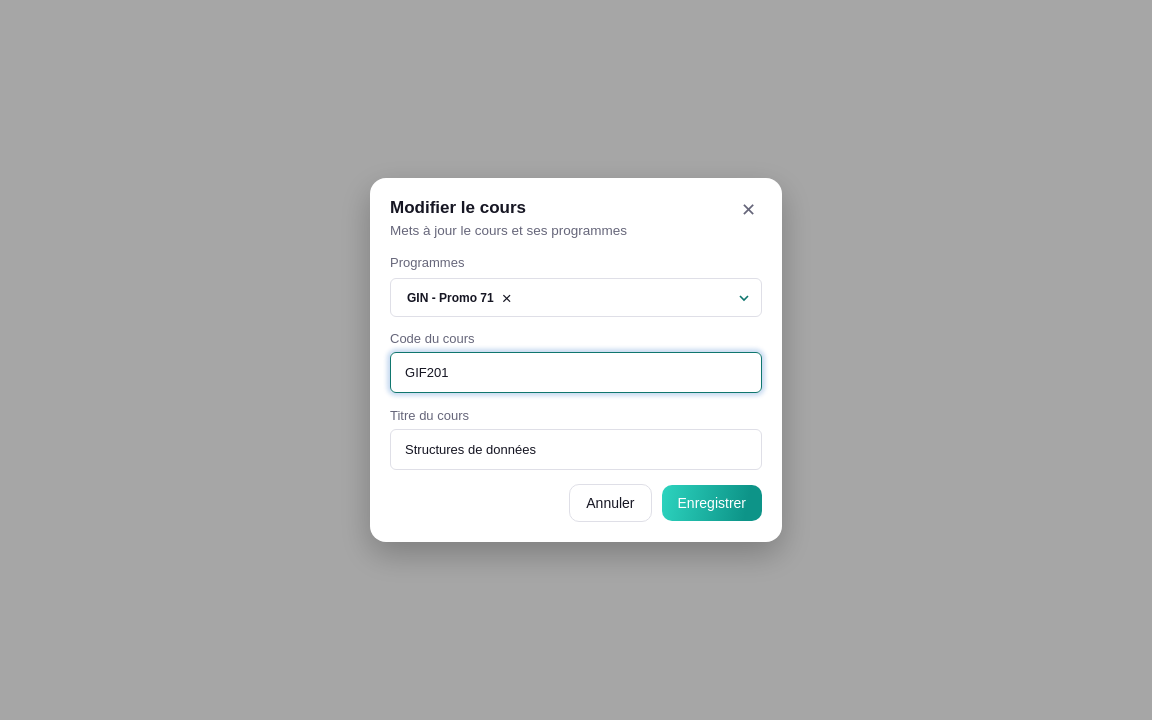
Test: UpdateCoursePopup › la recherche filtre par nom, code ou cohorte ; « aucun résultat » sinon
Click the element showing "GIN - Promo 71 ×" at (576, 298), box [390, 278, 762, 317]
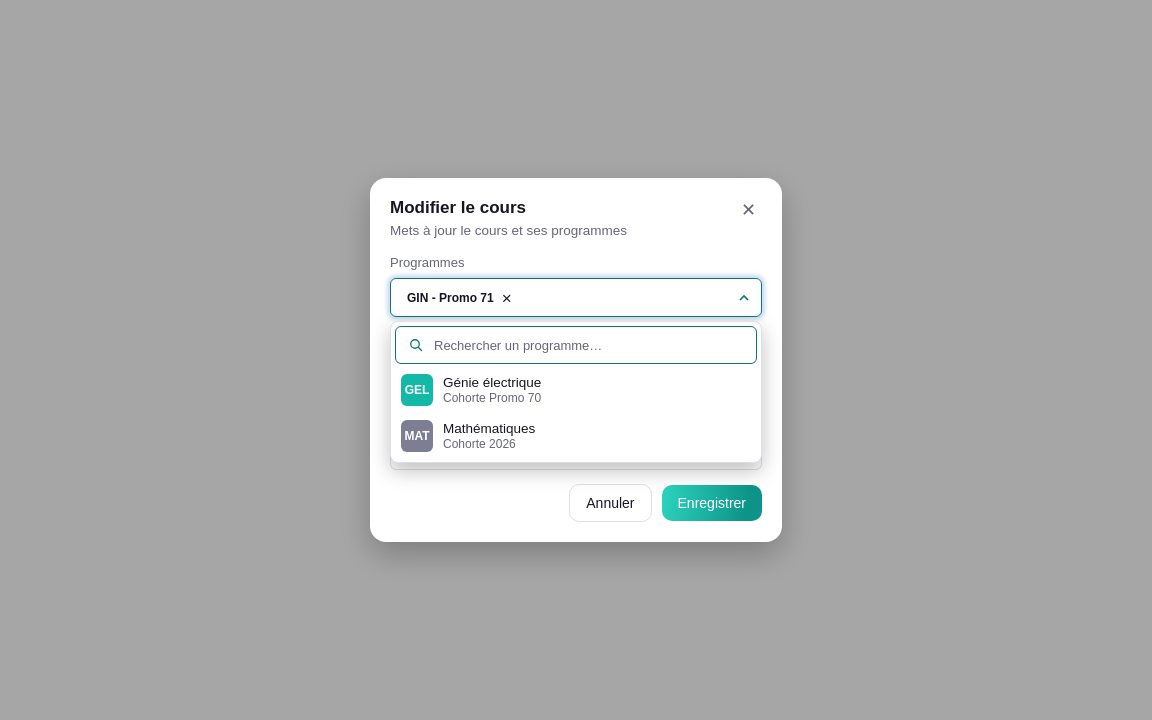
Type "gel" into the field with placeholder "Rechercher un programme…" at (589, 345), box [434, 338, 744, 353]
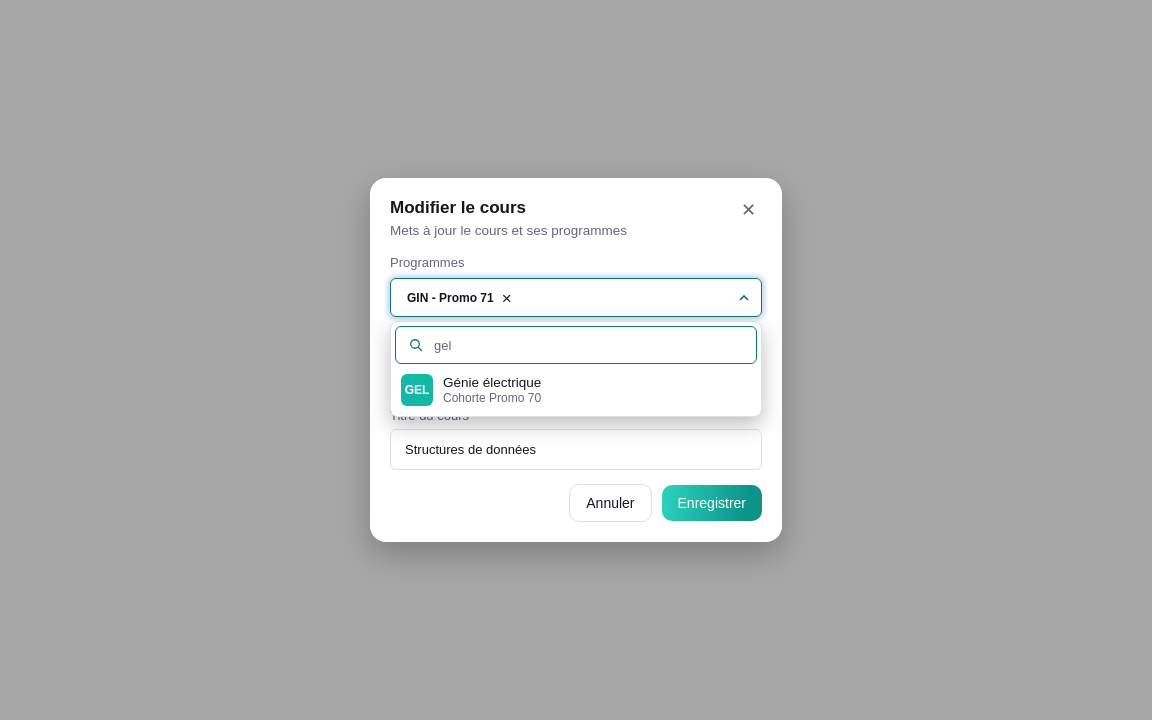
Check: the text "Génie électrique" is shown, box [443, 375, 541, 390]
Check: the button "Mathématiques" is gone
Replace the text in the field with placeholder "Rechercher un programme…" with "2026" at (589, 345), box [434, 338, 744, 353]
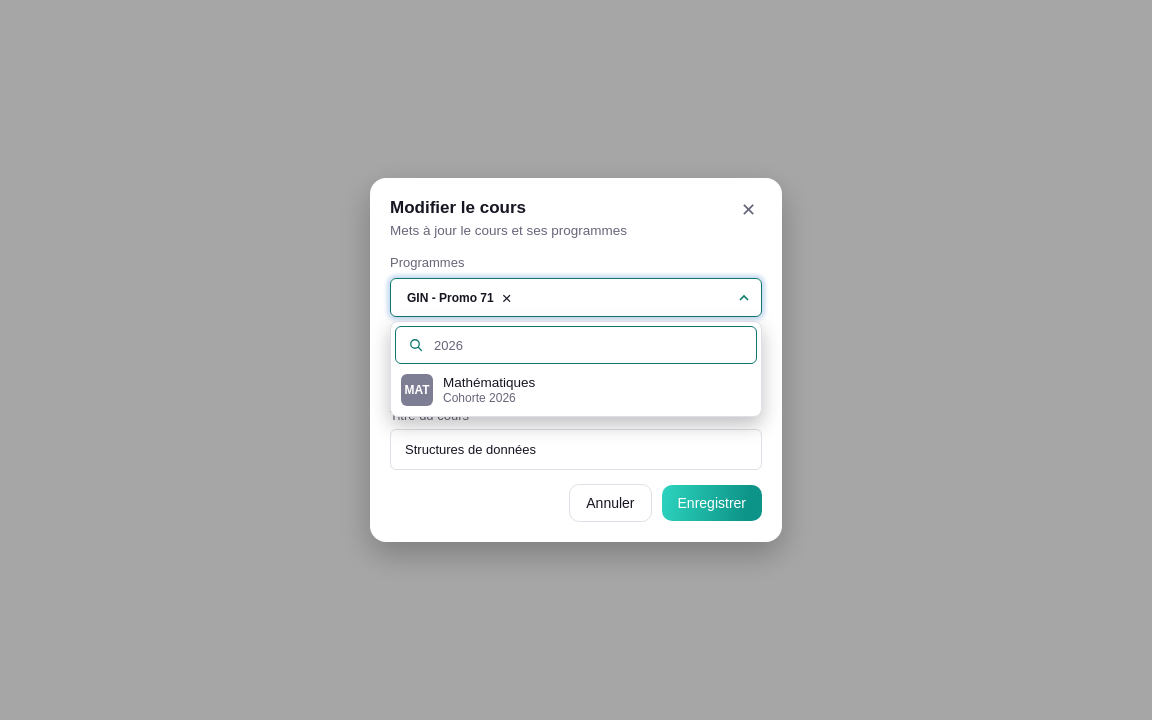
Check: the text "Mathématiques" is shown, box [443, 375, 535, 390]
Replace the text in the field with placeholder "Rechercher un programme…" with "zzz" at (589, 345), box [434, 338, 744, 353]
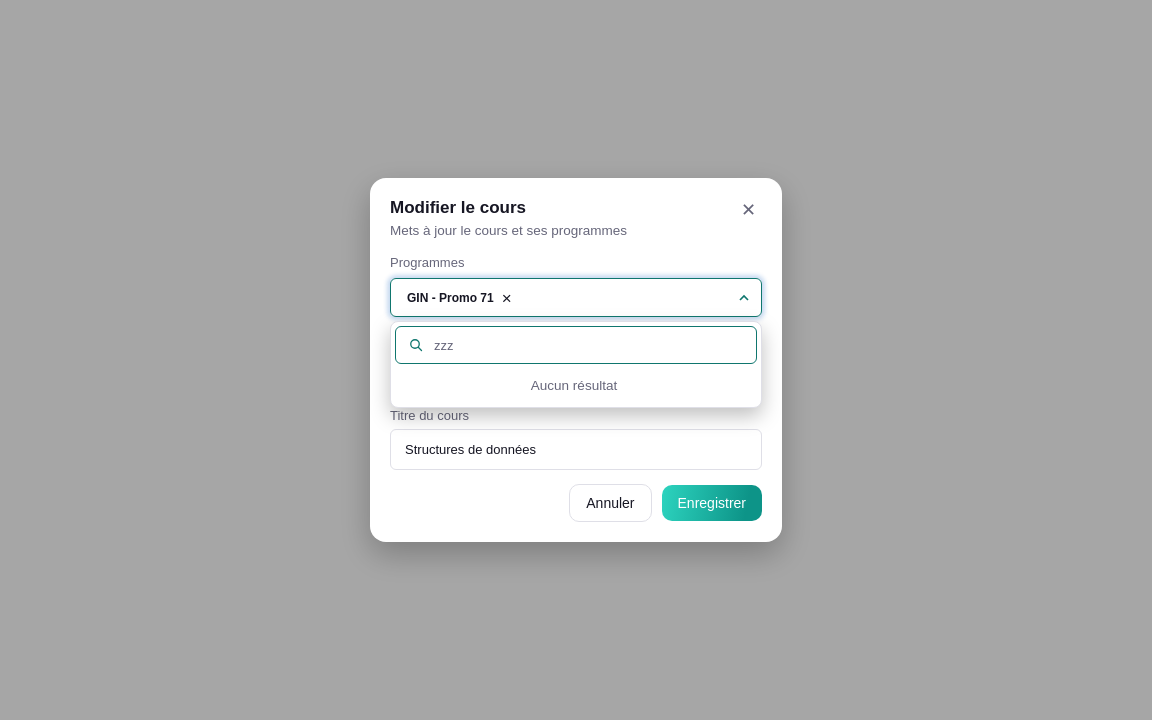
Check: the list item "Aucun résultat" is shown, box [531, 378, 617, 393]
